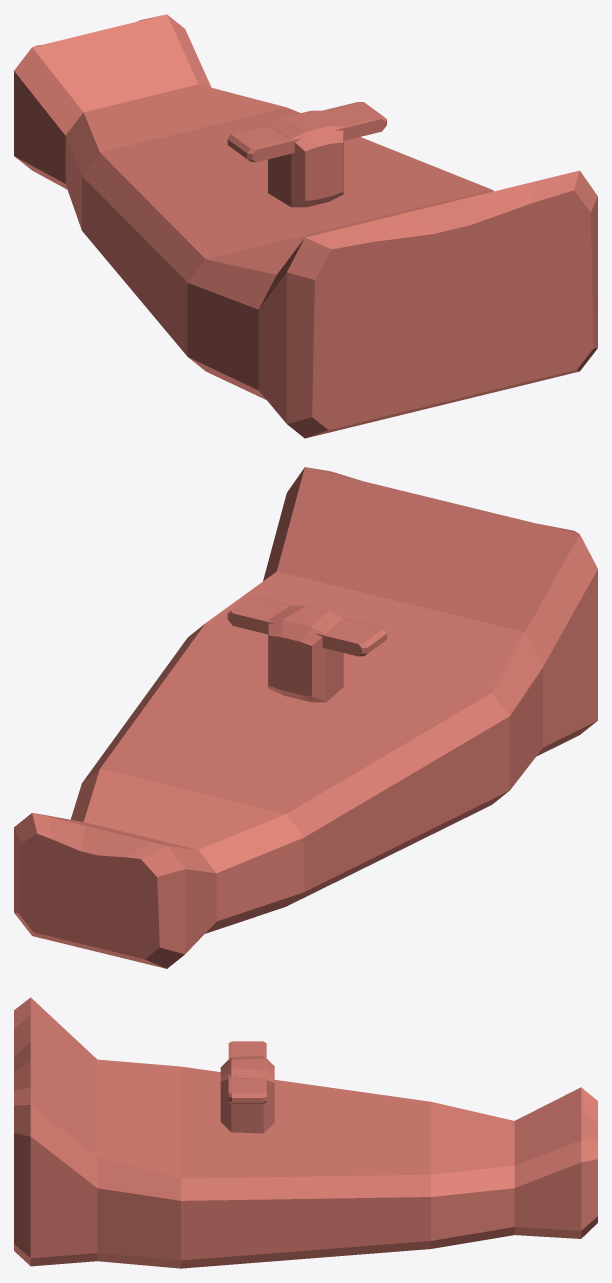
The model's file is calder_scout_b.glb.
The picture shows the model from 3 angles, top to bottom: view 1: azimuth 30°, elevation 25°; view 2: azimuth 150°, elevation 25°; view 3: azimuth 270°, elevation 25°; orthographic projection. The views are drawn at different scales.
Visible parts, largest first — view 1: calder_scout_b; view 2: calder_scout_b; view 3: calder_scout_b.
Part boxes in pixels (left/top/right/bottom): calder_scout_b: left=14, top=14, right=597, bottom=438; calder_scout_b: left=14, top=467, right=597, bottom=968; calder_scout_b: left=14, top=997, right=597, bottom=1268.
Size of the model in its own units: 2.2 by 1.31 by 4.3.
